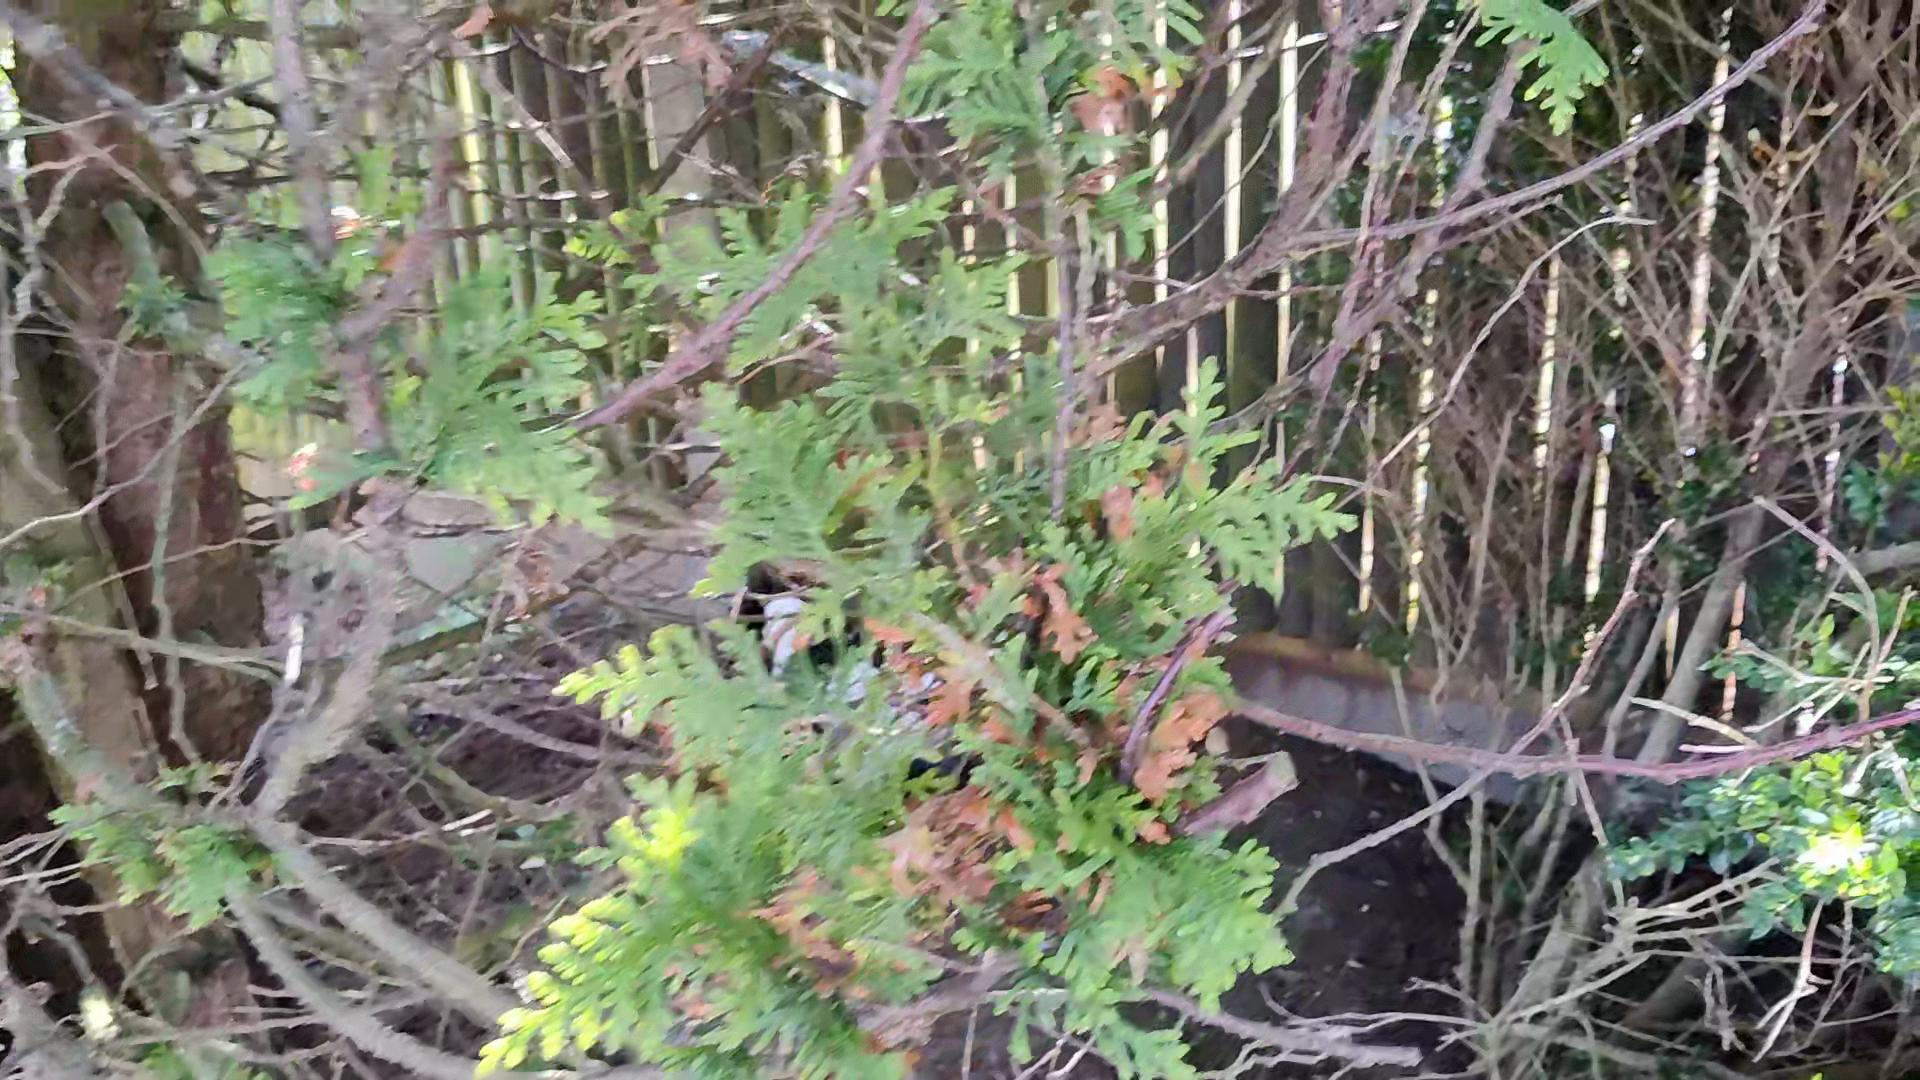Dog: (702, 541, 955, 777)
